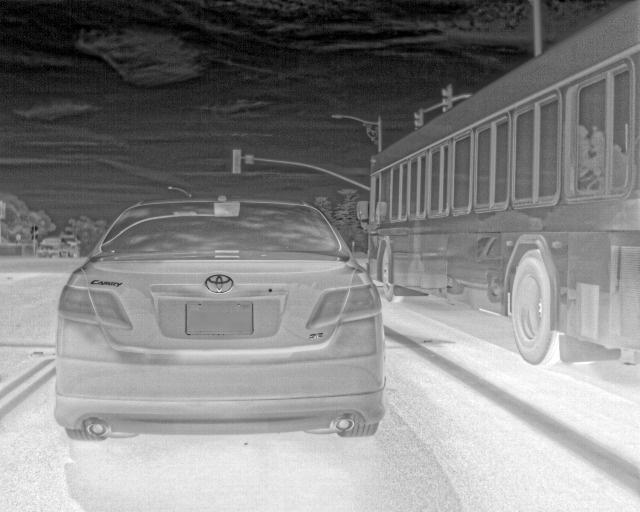car: (53, 194, 386, 441), (40, 236, 71, 258), (59, 235, 83, 258)
